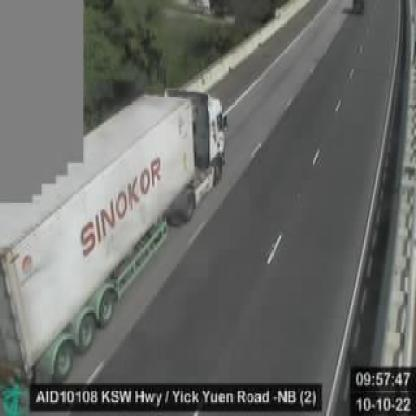Truck: (0, 89, 228, 398)
